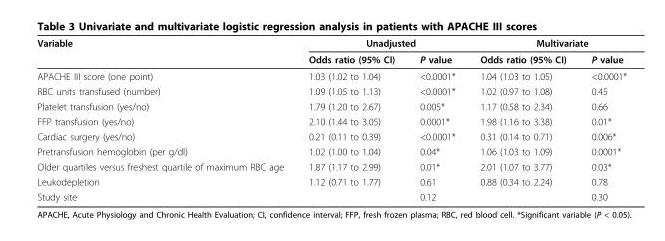table: (36, 36, 626, 202)
table column: (36, 36, 295, 202), (295, 36, 406, 202), (467, 36, 578, 202), (406, 36, 467, 202), (578, 36, 626, 202)
table column header: (36, 36, 626, 67)
table row: (36, 50, 626, 67), (36, 67, 626, 83), (36, 83, 626, 98), (36, 98, 626, 113), (36, 113, 626, 128), (36, 128, 626, 143), (36, 143, 626, 158), (36, 158, 626, 173), (36, 173, 626, 188), (36, 36, 626, 50), (36, 188, 626, 202)
table spanning cell: (36, 36, 295, 67), (295, 36, 467, 50), (467, 36, 626, 50)
